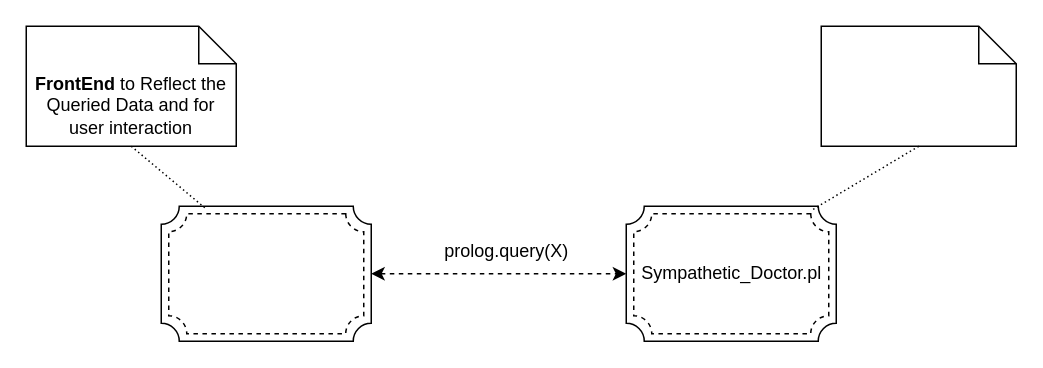
Some shapes in this 1043 by 368 pixel diagram are drawn without their labels. Here are the shapes that lost their labels. From the top down, the box of each, then its label:
(820, 25, 1016, 146): BackEnd to maintain states in Knowledge Base
(167, 212, 364, 334): Python_GUI.py
